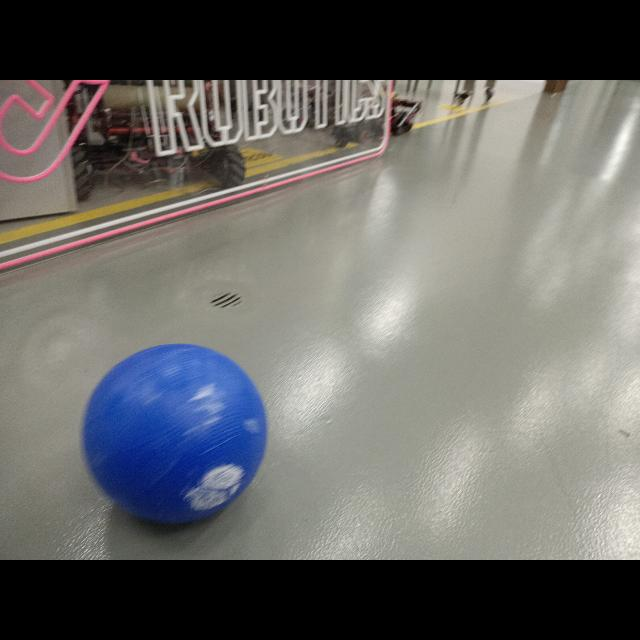B: (82, 344, 266, 528)
